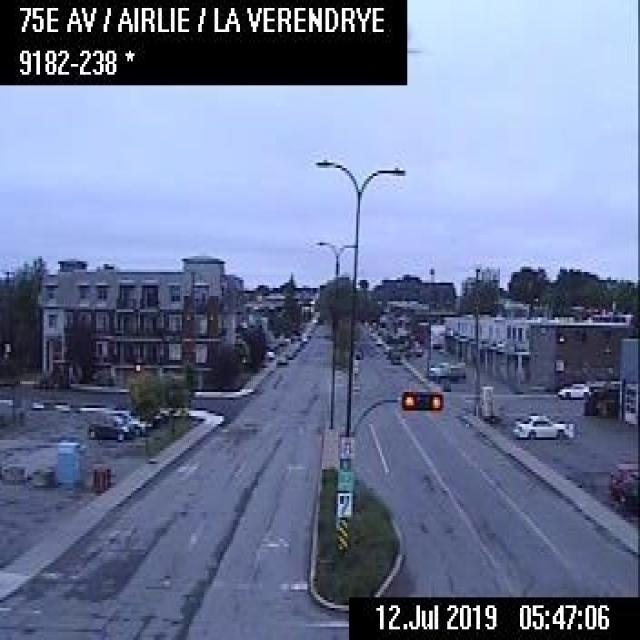construction: (95, 468, 102, 492), (100, 467, 107, 489), (91, 465, 97, 490)
vehicle: (510, 410, 573, 442), (101, 407, 144, 436), (608, 458, 638, 498), (86, 416, 132, 440), (427, 357, 466, 379), (554, 382, 591, 398), (389, 350, 402, 364), (274, 352, 286, 365)
